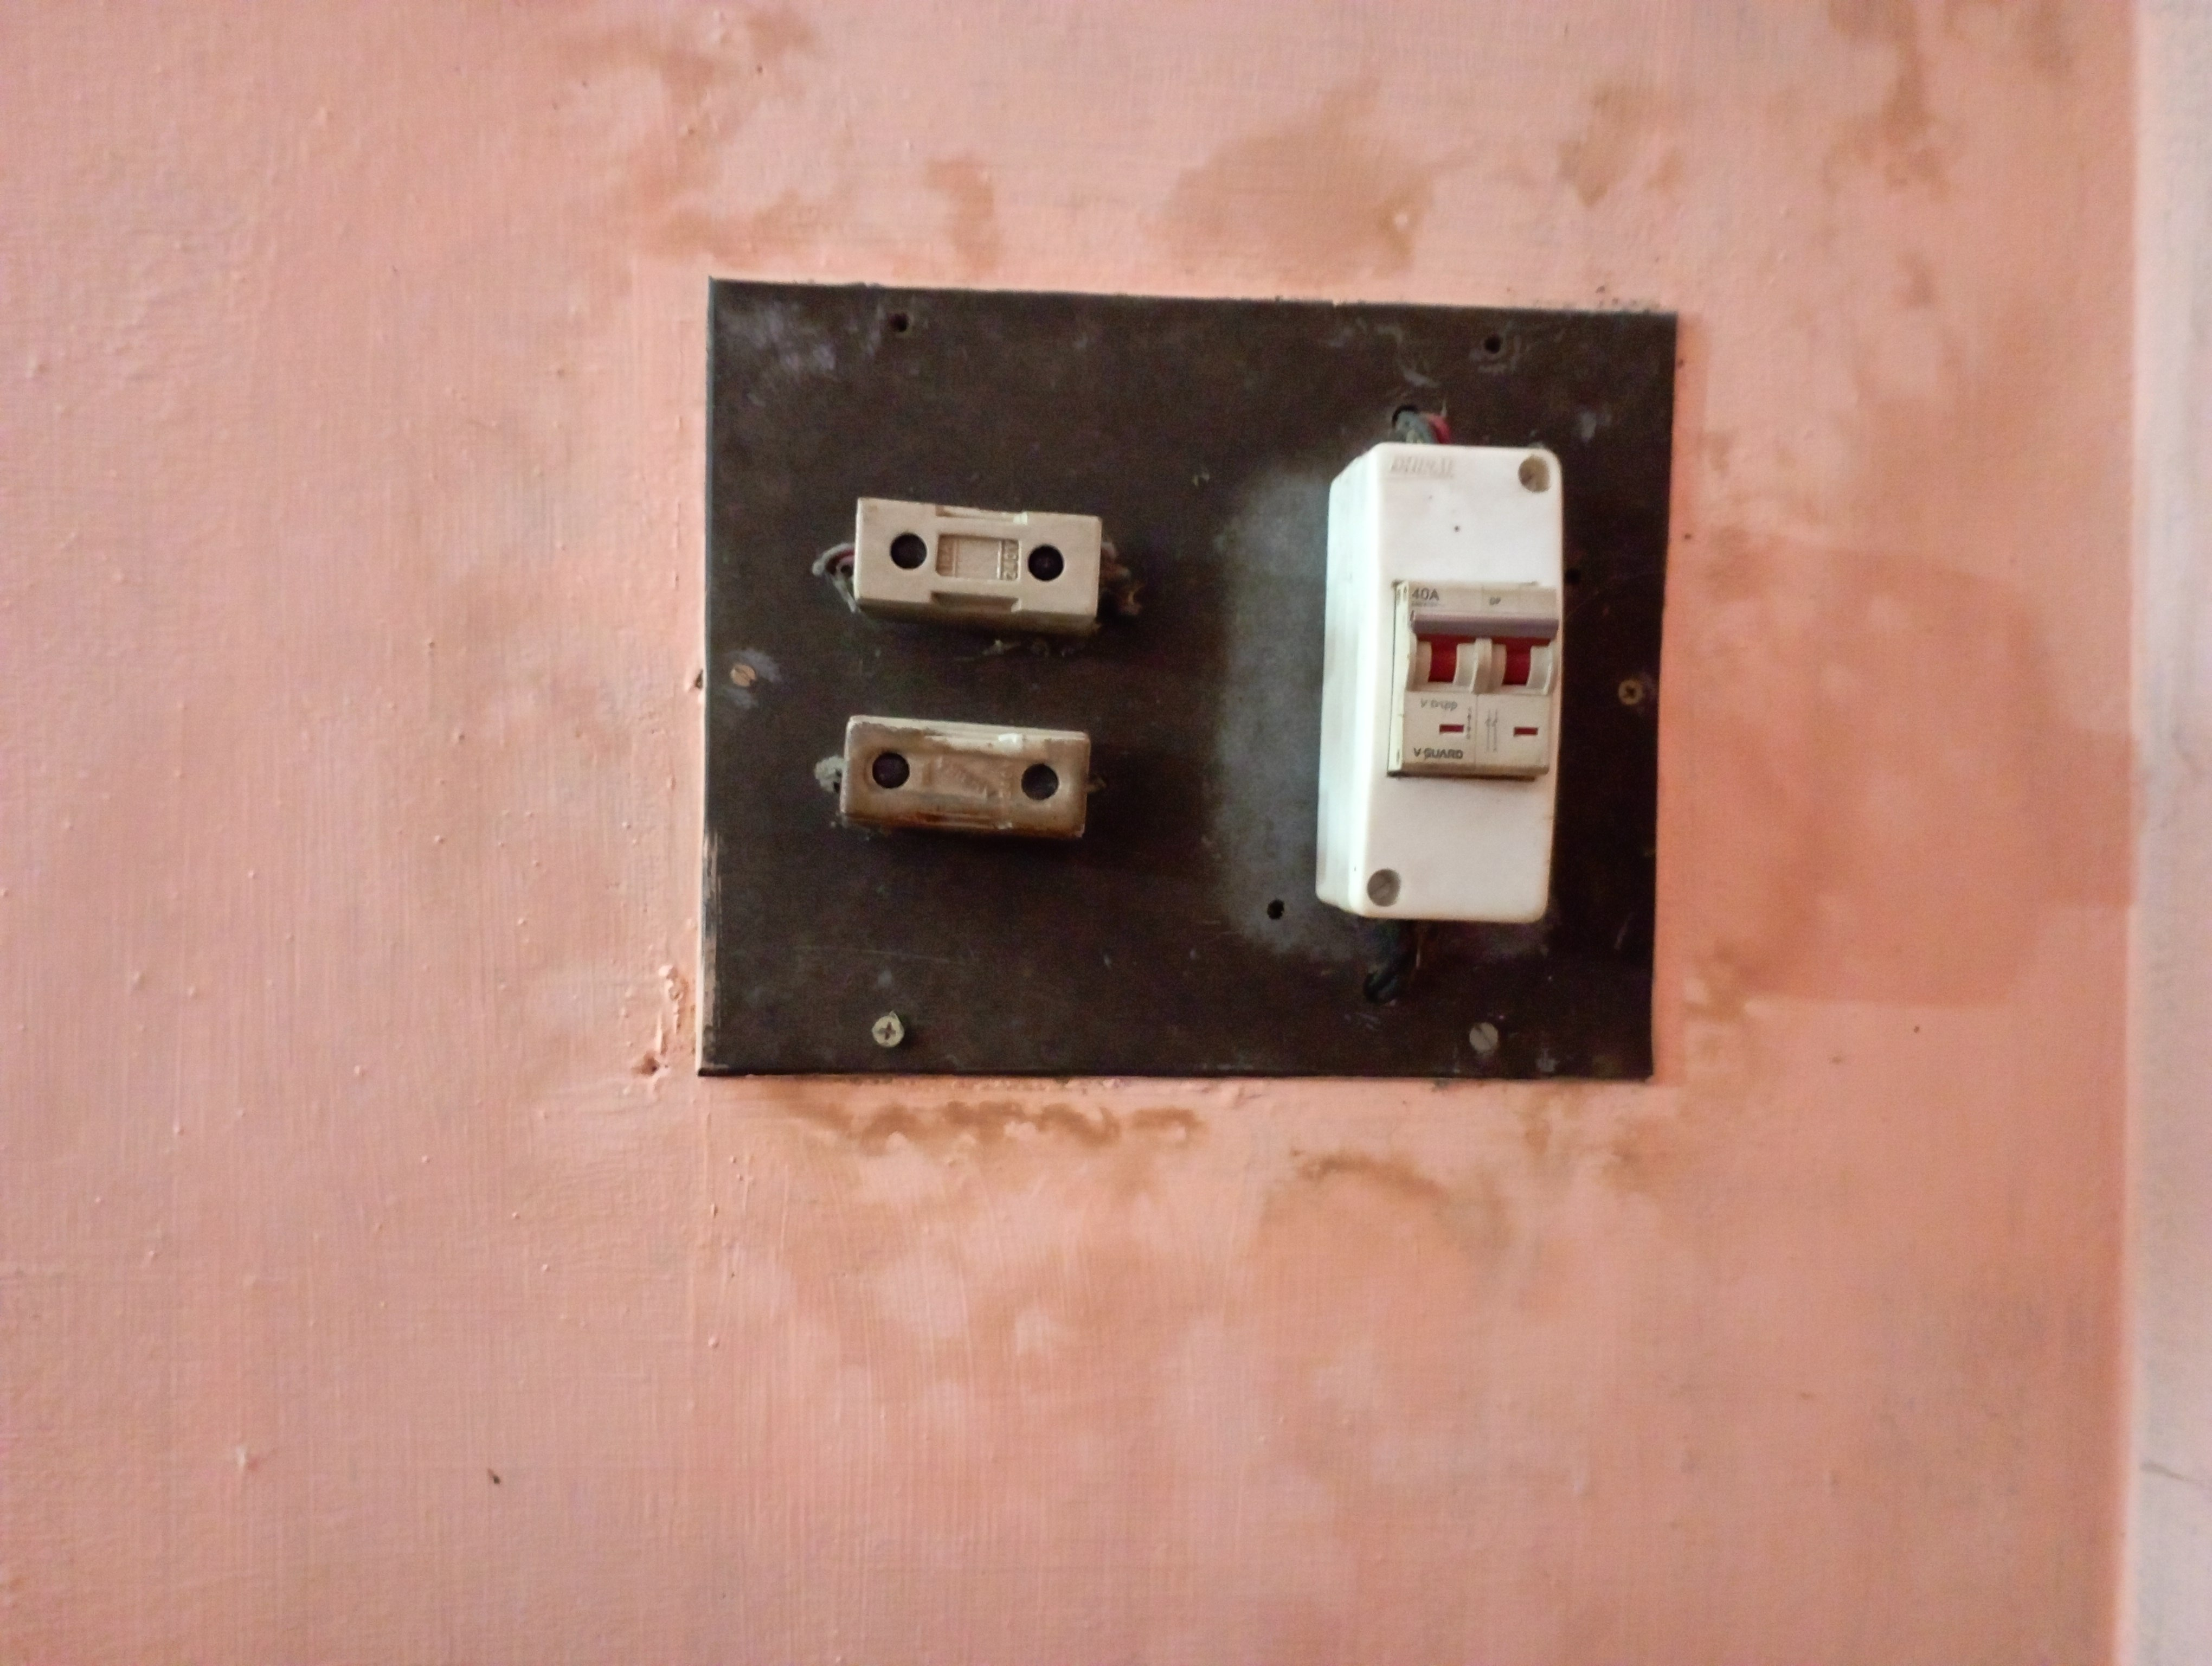ciruit_breaker: (1278, 436, 1581, 935)
fuse: (818, 481, 1151, 632), (811, 705, 1110, 866)
